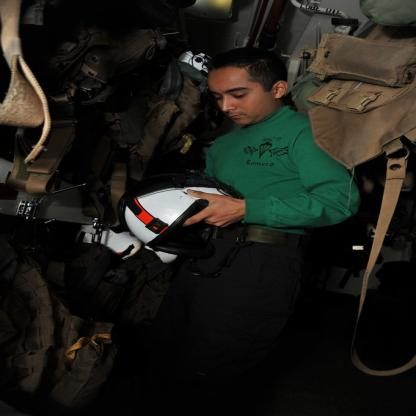Helmet: (112, 177, 230, 256)
